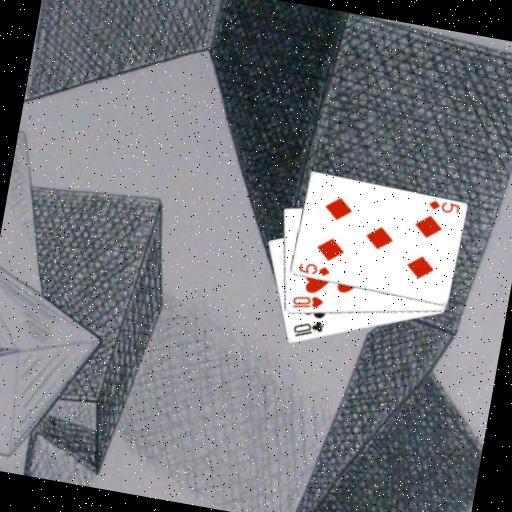10C: (288, 314, 326, 343)
10H: (287, 289, 325, 314)
5D: (296, 258, 332, 279), (424, 196, 461, 216)
